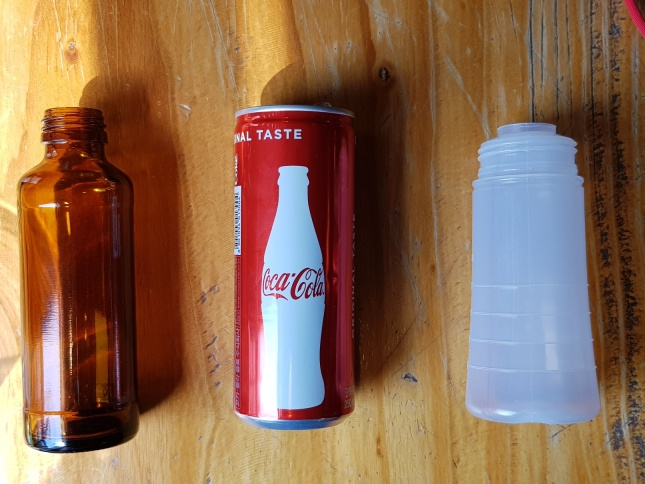Can: (227, 102, 360, 431)
Glass: (13, 102, 143, 456)
Plastic: (461, 119, 606, 432)
